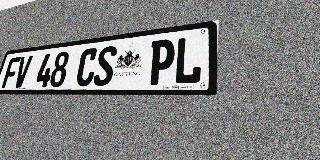4: (34, 53, 56, 87)
8: (48, 51, 71, 87)
C: (75, 47, 99, 86)
F: (1, 57, 21, 88)
L: (173, 35, 203, 84)
P: (147, 38, 176, 85)
S: (92, 45, 118, 86)
V: (13, 55, 33, 88)
